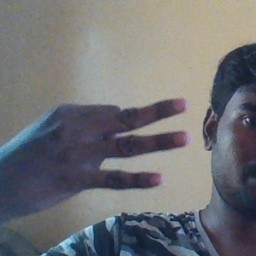K: (8, 94, 190, 204)
